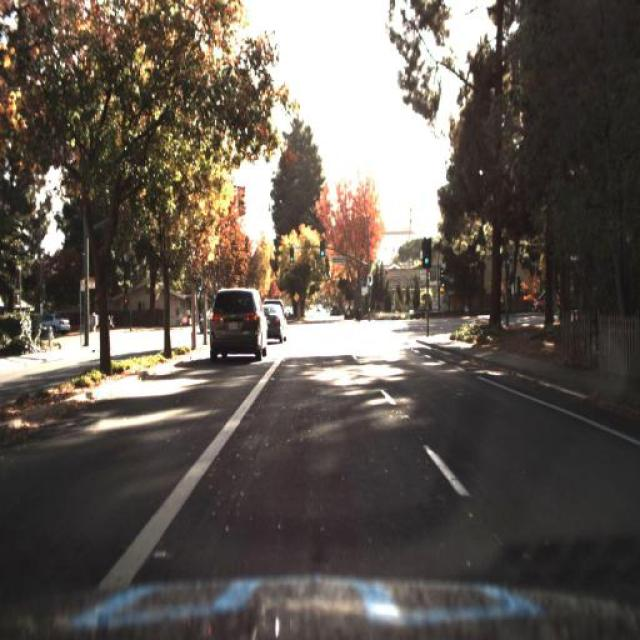car: (206, 285, 265, 369), (262, 303, 286, 348), (36, 312, 72, 336), (192, 306, 212, 342), (267, 305, 282, 350), (535, 290, 561, 314), (264, 296, 284, 308)
trafficLight-Green: (419, 243, 432, 275), (364, 266, 376, 290)
trafficLight-GreenLeft: (366, 272, 379, 297), (422, 239, 432, 271), (318, 236, 328, 264), (316, 242, 328, 262), (196, 280, 205, 299), (289, 244, 296, 267)
trafficLight-Red: (288, 249, 296, 267)
